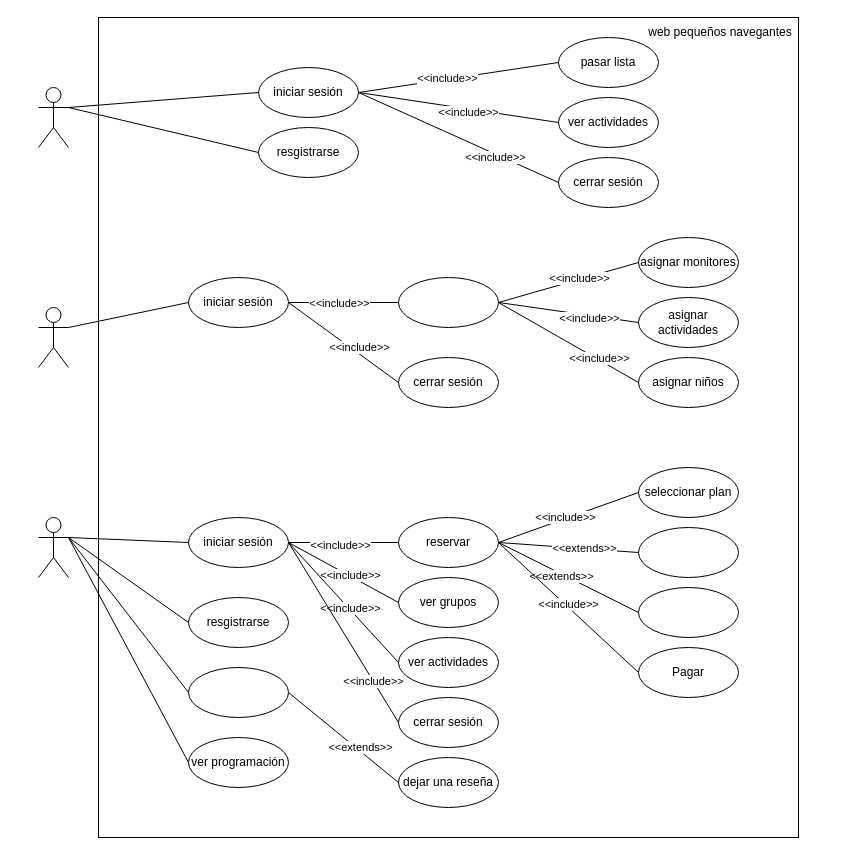
Image size: 843x855. Some labels were removed from this diagram. The shapes that lost their labels are listed below. From the top down, each one's centre as x and y in pixels, then its label:
pixel 53 117: monitor
pixel 448 302: crear grupos
pixel 53 337: administrador
pixel 53 547: Padre
pixel 688 552: añadir comida y desayuno
pixel 688 612: recogida del niño
pixel 238 692: ver reseñas
